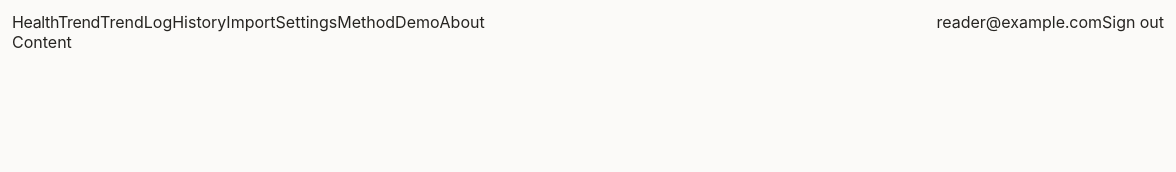
Test: AppShell › shows a recoverable message, without navigating, when signing out fails
Click the button "Sign out".
click(1133, 22)  # box x1=1102 y1=12 x2=1164 y2=32
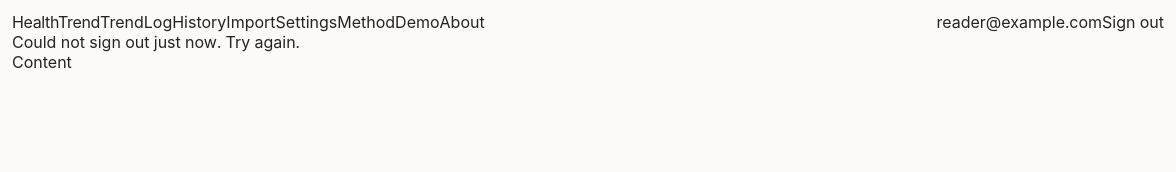
Check: the message shows "Could not sign out just now.", box x1=12 y1=32 x2=300 y2=52
